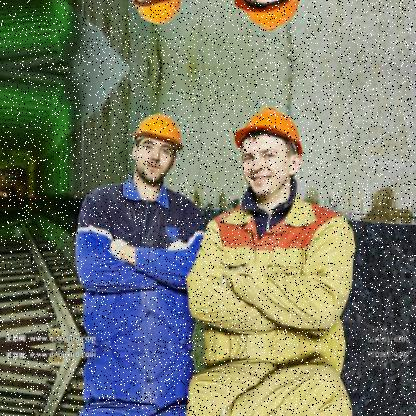Helmet: (232, 102, 304, 210), (130, 110, 182, 188), (236, 0, 306, 37), (128, 0, 192, 31)
